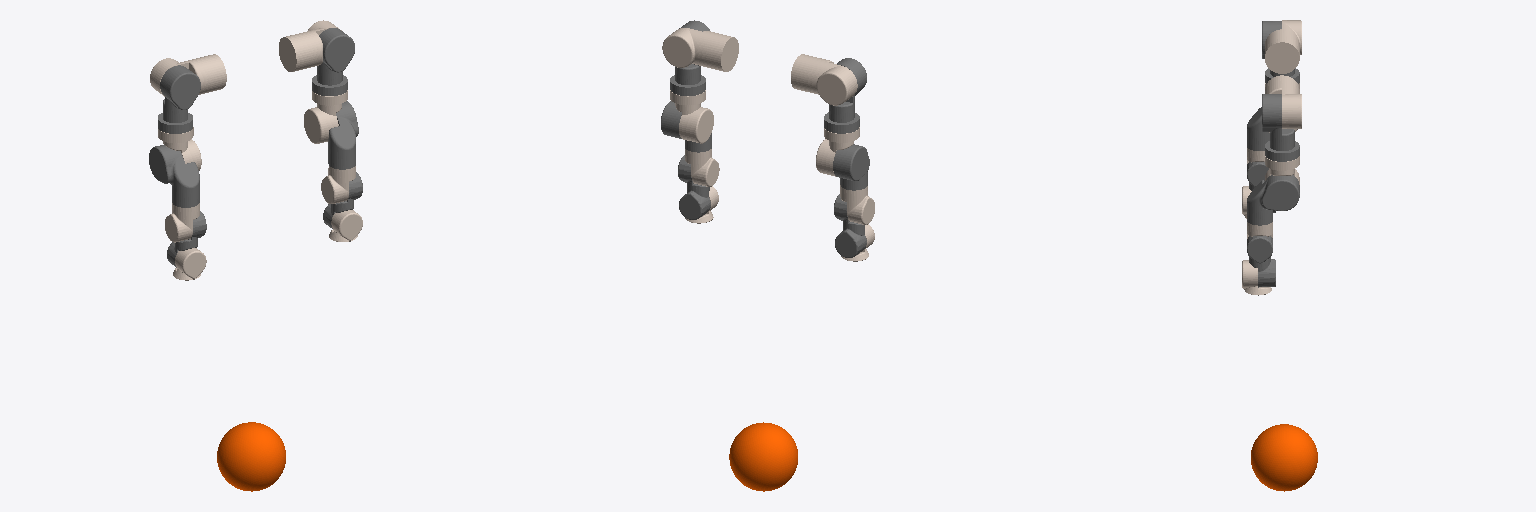
--- What the picture shows (computed from the rendered views, not written in the file) ---
3 views of the same robot in one strip: view 1: azimuth 30°, elevation 25°; view 2: azimuth 150°, elevation 25°; view 3: azimuth 270°, elevation 25° (orthographic).
Model ballbot with 24 links and 23 joints (17 revolute, 6 fixed), rooted at base_link, posed every joint at zero.
Visible links, largest first — view 1: Link_Ball, LArm2, LArm4, RArm2, RArm1, RArm4, LArm1, RArm3, LArm5, RArm5, RArm7, LArm7 (+3 smaller); view 2: Link_Ball, RArm1, LArm1, RArm3, LArm2, LArm4, RArm6, LArm6, RArm2, LArm3, LArm5, RArm5 (+1 smaller); view 3: Link_Ball, RArm4, RArm2, LArm1, RArm1, RArm6, LArm4, RArm7, LArm2, RArm3.
Boxes of the visible links, bbox=[...] form: Link_Ball: bbox=[217, 422, 285, 491]; LArm2: bbox=[158, 65, 200, 133]; LArm4: bbox=[149, 145, 199, 207]; RArm2: bbox=[312, 28, 354, 95]; RArm1: bbox=[279, 20, 341, 71]; RArm4: bbox=[328, 101, 358, 169]; LArm1: bbox=[150, 54, 226, 96]; RArm3: bbox=[304, 90, 347, 143]; LArm5: bbox=[165, 203, 199, 242]; RArm5: bbox=[321, 166, 355, 203]; RArm7: bbox=[329, 210, 362, 241]; LArm7: bbox=[173, 248, 206, 280]; Link_Ball: bbox=[729, 422, 797, 491]; RArm1: bbox=[662, 28, 738, 71]; LArm1: bbox=[791, 54, 857, 105]; RArm3: bbox=[670, 90, 713, 143]; LArm2: bbox=[824, 58, 866, 133]; LArm4: bbox=[833, 144, 869, 190]; RArm6: bbox=[678, 155, 710, 219]; LArm6: bbox=[834, 194, 866, 257]; RArm2: bbox=[670, 20, 709, 95]; LArm3: bbox=[816, 127, 859, 176]; LArm5: bbox=[840, 185, 874, 224]; RArm5: bbox=[685, 149, 719, 186]; Link_Ball: bbox=[1251, 424, 1317, 491]; RArm4: bbox=[1247, 175, 1299, 225]; RArm2: bbox=[1262, 94, 1299, 161]; LArm1: bbox=[1265, 20, 1301, 73]; RArm1: bbox=[1265, 75, 1301, 128]; RArm6: bbox=[1247, 236, 1275, 287]; LArm4: bbox=[1247, 107, 1269, 150]; RArm7: bbox=[1242, 260, 1271, 295]; LArm2: bbox=[1262, 21, 1299, 83]; RArm3: bbox=[1265, 156, 1299, 184].
Size in the robot's own frame: 0.676 by 0.2387 by 1.49 metres.
Meshes: 11 distinct files referenced, 15 mesh visuals loaded (9 binary STL); not drawn: 3 (reference not matched to a file when rendering).

The robot description file, URDF, robot "ballbot":
<?xml version="1.0" ?>
<!-- =================================================================================== -->
<!-- |    This document was autogenerated by xacro from ballbot_plus_nohands.urdf.xacro | -->
<!-- |    EDITING THIS FILE BY HAND IS NOT RECOMMENDED                                 | -->
<!-- =================================================================================== -->
<robot name="ballbot" xmlns:xacro="http://ros.org/wiki/xacro">
  <!-- CAD -->
  <material name="black">
    <color rgba="0.0 0.0 0.0 1.0"/>
  </material>
  <material name="blue">
    <color rgba="0.0 0.0 0.8 1.0"/>
  </material>
  <material name="green">
    <color rgba="0.0 0.8 0.0 1.0"/>
  </material>
  <material name="dark_grey">
    <color rgba="0.2 0.2 0.2 1.0"/>
  </material>
  <material name="grey">
    <color rgba="0.5 0.5 0.5 1.0"/>
  </material>
  <material name="light_grey">
    <color rgba="0.8 0.8 0.8 1.0"/>
  </material>
  <material name="orange">
    <color rgba="1.0 0.423529411765 0.0392156862745 1.0"/>
  </material>
  <material name="brown">
    <color rgba="0.870588235294 0.811764705882 0.764705882353 1.0"/>
  </material>
  <material name="white">
    <color rgba="1.0 1.0 1.0 1.0"/>
  </material>
  <material name="yellow">
    <color rgba="0.8 0.68 0 1"/>
  </material>
  <material name="red">
    <color rgba="1.0 0.0 0.0 1"/>
  </material>
  <material name="aluminum">
    <color rgba="0.5 0.5 0.5 1"/>
  </material>
  <!-- ros_control plugin -->
  <gazebo>
    <plugin filename="libgazebo_ros_control.so" name="gazebo_ros_control">
      <robotNamespace>/ballbot</robotNamespace>
      <robotSimType>gazebo_ros_control/DefaultRobotHWSim</robotSimType>
      <legacyModeNS>true</legacyModeNS>
    </plugin>
  </gazebo>
  <gazebo reference="BallbotBase">
    <material>Gazebo/Orange</material>
    <selfCollide>false</selfCollide>
    <static>true</static>
  </gazebo>
  <gazebo reference="Link_FakeBall">
    <material>Gazebo/Orange</material>
    <selfCollide>true</selfCollide>
    <static>true</static>
  </gazebo>
  <gazebo reference="Link_Ball">
    <material>Gazebo/Orange</material>
    <self_collide>false</self_collide>
    <static>true</static>
  </gazebo>
  <gazebo reference="Link_FakeBody">
    <material>Gazebo/Orange</material>
    <selfCollide>false</selfCollide>
    <static>true</static>
  </gazebo>
  <gazebo reference="Link_Body">
    <material>Gazebo/Yellow</material>
    <self_collide>true</self_collide>
    <static>true</static>
  </gazebo>
  <!-- Right Arm Transmissions -->
  <transmission name="RArmTran1">
    <type>transmission_interface/SimpleTransmission</type>
    <joint name="JRA1">
      <hardwareInterface>hardware_interface/EffortJointInterface</hardwareInterface>
    </joint>
    <actuator name="RArmMotor1">
      <hardwareInterface>hardware_interface/EffortJointInterface</hardwareInterface>
      <mechanicalReduction>1</mechanicalReduction>
    </actuator>
  </transmission>
  <transmission name="RArmTran2">
    <type>transmission_interface/SimpleTransmission</type>
    <joint name="JRA2">
      <hardwareInterface>hardware_interface/EffortJointInterface</hardwareInterface>
    </joint>
    <actuator name="RArmMotor2">
      <hardwareInterface>hardware_interface/EffortJointInterface</hardwareInterface>
      <mechanicalReduction>1</mechanicalReduction>
    </actuator>
  </transmission>
  <transmission name="RArmTran3">
    <type>transmission_interface/SimpleTransmission</type>
    <joint name="JRA3">
      <hardwareInterface>hardware_interface/EffortJointInterface</hardwareInterface>
    </joint>
    <actuator name="RArmMotor3">
      <hardwareInterface>hardware_interface/EffortJointInterface</hardwareInterface>
      <mechanicalReduction>1</mechanicalReduction>
    </actuator>
  </transmission>
  <transmission name="RArmTran4">
    <type>transmission_interface/SimpleTransmission</type>
    <joint name="JRA4">
      <hardwareInterface>hardware_interface/EffortJointInterface</hardwareInterface>
    </joint>
    <actuator name="RArmMotor4">
      <hardwareInterface>hardware_interface/EffortJointInterface</hardwareInterface>
      <mechanicalReduction>1</mechanicalReduction>
    </actuator>
  </transmission>
  <transmission name="RArmTran5">
    <type>transmission_interface/SimpleTransmission</type>
    <joint name="JRA5">
      <hardwareInterface>hardware_interface/EffortJointInterface</hardwareInterface>
    </joint>
    <actuator name="RArmMotor5">
      <hardwareInterface>hardware_interface/EffortJointInterface</hardwareInterface>
      <mechanicalReduction>1</mechanicalReduction>
    </actuator>
  </transmission>
  <transmission name="RArmTran6">
    <type>transmission_interface/SimpleTransmission</type>
    <joint name="JRA6">
      <hardwareInterface>hardware_interface/EffortJointInterface</hardwareInterface>
    </joint>
    <actuator name="RArmMotor6">
      <hardwareInterface>hardware_interface/EffortJointInterface</hardwareInterface>
      <mechanicalReduction>1</mechanicalReduction>
    </actuator>
  </transmission>
  <transmission name="RArmTran7">
    <type>transmission_interface/SimpleTransmission</type>
    <joint name="JRA7">
      <hardwareInterface>hardware_interface/EffortJointInterface</hardwareInterface>
    </joint>
    <actuator name="RArmMotor7">
      <hardwareInterface>hardware_interface/EffortJointInterface</hardwareInterface>
      <mechanicalReduction>1</mechanicalReduction>
    </actuator>
  </transmission>
  <!-- Left Arm Transmissions -->
  <transmission name="LArmTran1">
    <type>transmission_interface/SimpleTransmission</type>
    <joint name="JLA1">
      <hardwareInterface>hardware_interface/EffortJointInterface</hardwareInterface>
    </joint>
    <actuator name="LArmMotor1">
      <hardwareInterface>hardware_interface/EffortJointInterface</hardwareInterface>
      <mechanicalReduction>1</mechanicalReduction>
    </actuator>
  </transmission>
  <transmission name="LArmTran2">
    <type>transmission_interface/SimpleTransmission</type>
    <joint name="JLA2">
      <hardwareInterface>hardware_interface/EffortJointInterface</hardwareInterface>
    </joint>
    <actuator name="LArmMotor2">
      <hardwareInterface>hardware_interface/EffortJointInterface</hardwareInterface>
      <mechanicalReduction>1</mechanicalReduction>
    </actuator>
  </transmission>
  <transmission name="LArmTran3">
    <type>transmission_interface/SimpleTransmission</type>
    <joint name="JLA3">
      <hardwareInterface>hardware_interface/EffortJointInterface</hardwareInterface>
    </joint>
    <actuator name="LArmMotor3">
      <hardwareInterface>hardware_interface/EffortJointInterface</hardwareInterface>
      <mechanicalReduction>1</mechanicalReduction>
    </actuator>
  </transmission>
  <transmission name="LArmTran4">
    <type>transmission_interface/SimpleTransmission</type>
    <joint name="JLA4">
      <hardwareInterface>hardware_interface/EffortJointInterface</hardwareInterface>
    </joint>
    <actuator name="LArmMotor4">
      <hardwareInterface>hardware_interface/EffortJointInterface</hardwareInterface>
      <mechanicalReduction>1</mechanicalReduction>
    </actuator>
  </transmission>
  <transmission name="LArmTran5">
    <type>transmission_interface/SimpleTransmission</type>
    <joint name="JLA5">
      <hardwareInterface>hardware_interface/EffortJointInterface</hardwareInterface>
    </joint>
    <actuator name="LArmMotor5">
      <hardwareInterface>hardware_interface/EffortJointInterface</hardwareInterface>
      <mechanicalReduction>1</mechanicalReduction>
    </actuator>
  </transmission>
  <transmission name="LArmTran6">
    <type>transmission_interface/SimpleTransmission</type>
    <joint name="JLA6">
      <hardwareInterface>hardware_interface/EffortJointInterface</hardwareInterface>
    </joint>
    <actuator name="LArmMotor6">
      <hardwareInterface>hardware_interface/EffortJointInterface</hardwareInterface>
      <mechanicalReduction>1</mechanicalReduction>
    </actuator>
  </transmission>
  <transmission name="LArmTran7">
    <type>transmission_interface/SimpleTransmission</type>
    <joint name="JLA7">
      <hardwareInterface>hardware_interface/EffortJointInterface</hardwareInterface>
    </joint>
    <actuator name="LArmMotor7">
      <hardwareInterface>hardware_interface/EffortJointInterface</hardwareInterface>
      <mechanicalReduction>1</mechanicalReduction>
    </actuator>
  </transmission>
  <!--<gazebo reference="">
    <material>Gazebo/Yellow</material>
  </gazebo>

  - Right Arm 
  <gazebo reference="Link_FakeBall">
    <mu1>0.2</mu1>
    <mu2>0.2</mu1>
    <material>Gazebo/Orange</material>
  </gazebo>

  <gazebo reference="Link_Ball">
    <mu1>0.2</mu1>
    <mu2>0.2</mu1>
    <material>Gazebo/Orange</material>
  </gazebo>

  <gazebo reference="Link_FakeBody">
    <mu1>0.2</mu1>
    <mu2>0.2</mu1>
    <material>Gazebo/Orange</material>
  </gazebo>

  <gazebo reference="Link_Body">
    <mu1>0.2</mu1>
    <mu2>0.2</mu1>
    <material>Gazebo/Orange</material>
  </gazebo-->
  <!-- Used for fixing robot to Gazebo 'base_link' -->
  <link name="base_link"/>
  <link name="Link_Ball">
    <inertial>
      <origin xyz="0.0 0.0 0.105838"/>
      <mass value="2.72"/>
      <inertia ixx="0.01220" ixy="0.00000" ixz="0.00000" iyy="0.01220" iyz="0.00000" izz="0.01220"/>
    </inertial>
    <visual>
      <origin rpy="0.0 0.0 0.0" xyz="0.0 0.0 0.0"/>
      <geometry>
        <mesh filename="package://ballbot_arm_description/meshes/v2020/ball.stl"/>
      </geometry>
      <material name="orange"/>
    </visual>
    <collision>
      <origin rpy="0 0 0" xyz="0 0 0"/>
      <geometry>
        <mesh filename="package://ballbot_arm_description/meshes/v2020/ball.stl"/>
      </geometry>
    </collision>
  </link>
  <link name="Link_Pitch">
    <inertial>
      <origin xyz="0.00000 0.00000 0.00000"/>
      <mass value="0.00001"/>
      <inertia ixx="0.0000001" ixy="0.0" ixz="0.0" iyy="0.0000001" iyz="0.0" izz="0.0000001"/>
    </inertial>
  </link>
  <link name="Link_Roll">
    <inertial>
      <origin xyz="0.00000 0.00000 0.00000"/>
      <mass value="0.00001"/>
      <inertia ixx="0.0000001" ixy="0.0" ixz="0.0" iyy="0.0000001" iyz="0.0" izz="0.0000001"/>
    </inertial>
  </link>
  <link name="Link_Yaw">
    <inertial>
      <origin xyz="0.00000 0.00000 0.00000"/>
      <mass value="0.00001"/>
      <inertia ixx="0.0000001" ixy="0.0" ixz="0.0" iyy="0.0000001" iyz="0.0" izz="0.0000001"/>
    </inertial>
  </link>
  <!-- Joints -->
  <joint name="Joint_World_Ball" type="fixed">
    <origin rpy="0.0 0.0 0.0" xyz="0.0 0.0 0.105838"/>
    <parent link="base_link"/>
    <child link="Link_Ball"/>
    <axis xyz="0 0 1"/>
  </joint>
  <joint name="xAngle" type="revolute">
    <origin rpy="0.0 0.0 0.0" xyz="0.0 0.0 0.0"/>
    <parent link="Link_Ball"/>
    <child link="Link_Pitch"/>
    <limit effort="30" lower="-0.349065850399" upper="0.349065850399" velocity="1.0"/>
    <axis xyz="0 1 0"/>
  </joint>
  <joint name="yAngle" type="revolute">
    <origin rpy="0.0 0.0 0.0" xyz="0.00000 0.00000 0.00000"/>
    <parent link="Link_Pitch"/>
    <child link="Link_Roll"/>
    <limit effort="30" lower="-0.349065850399" upper="0.349065850399" velocity="1.0"/>
    <axis xyz="-1 0 0"/>
  </joint>
  <joint name="yaw" type="revolute">
    <origin rpy="0.0 0.0 0.0" xyz="0.00000 0.00000 0.0"/>
    <parent link="Link_Roll"/>
    <child link="Link_Yaw"/>
    <limit effort="30" lower="-3.14159265359" upper="3.14159265359" velocity="1.0"/>
    <axis xyz="0 0 1"/>
  </joint>
  <joint name="JBalltoBody" type="fixed">
    <origin rpy="0.0 0.0 1.5707963268" xyz="0.0 0.0 0.762"/>
    <parent link="Link_Yaw"/>
    <child link="body_link"/>
    <limit effort="30" velocity="1.0"/>
    <axis xyz="0 0 1"/>
  </joint>
  <link name="body_link">
    <inertial>
      <origin xyz="0.011 0.0 -0.072"/>
      <mass value="64.86"/>
      <inertia ixx="10.61648" ixy="0.00000" ixz="0.00000" iyy="10.61648" iyz="0.00000" izz="0.66440"/>
    </inertial>
    <visual>
      <origin rpy="0 0 0" xyz="0 0 -0.762"/>
      <geometry>
        <mesh filename="package://ballbot_arm_description/meshes/v2020/ballbot_body_v2021.stl"/>
      </geometry>
      <material name="yellow"/>
    </visual>
    <collision>
      <origin rpy="0 0 0" xyz="0 0 -0.0595"/>
      <geometry>
        <cylinder length="1.105" radius="0.184"/>
      </geometry>
    </collision>
  </link>
  <!-- ====================================== -->
  <!-- Right Arm -->
  <joint name="JRA0" type="fixed">
    <origin rpy="-1.5707963268 -1.5707963268 3.14159265359" xyz="-0.00635 -0.12314 0.56715"/>
    <parent link="body_link"/>
    <child link="RArm0"/>
    <axis xyz="0 0 1"/>
    <dynamics damping="1.0" friction="1.0"/>
  </joint>
  <link name="RArm0">
    <inertial>
      <origin rpy="0 0 0" xyz="-0.00832 0.0 -0.0418"/>
      <mass value="2.367"/>
      <inertia ixx="0.00366" ixy="0.0" ixz="-0.0000208" iyy="0.00398" iyz="0.0" izz="0.00461"/>
    </inertial>
    <visual>
      <origin rpy="0 0 0" xyz="0 0 0"/>
      <geometry>
        <mesh filename="package://ballbot_arm_description/meshes/v2020/link_base.stl"/>
      </geometry>
      <material name="grey"/>
    </visual>
    <collision>
      <origin rpy="0 0 0" xyz="0 0 0"/>
      <geometry>
        <mesh filename="package://ballbot_arm_description/meshes/v2020/link_base.stl"/>
      </geometry>
    </collision>
  </link>
  <link name="RArm1">
    <inertial>
      <origin xyz="0.0 0.00329 0.0865"/>
      <mass value="4.181"/>
      <inertia ixx="0.0172" ixy="0.0000173" ixz="0.0" iyy="0.0170" iyz="-0.000935" izz="0.00602"/>
    </inertial>
    <visual>
      <origin rpy="0 0 3.14159265359" xyz="0.0 0.0 0.0"/>
      <geometry>
        <mesh filename="package://ballbot_arm_description/meshes/v2020/link_shoulder_2_base.stl"/>
      </geometry>
      <material name="brown"/>
    </visual>
    <collision>
      <origin rpy="0 0 0" xyz="0.0 0.0 -0.05525"/>
      <geometry>
        <cylinder length="0.1105" radius="0.05"/>
      </geometry>
    </collision>
  </link>
  <link name="RArm2">
    <inertial>
      <origin xyz="-0.123 0.000 -0.0507"/>
      <mass value="1.832"/>
      <inertia ixx="0.00241" ixy="0.0" ixz="-0.000742" iyy="0.00559" iyz="0.0" izz="0.00563"/>
    </inertial>
    <visual>
      <origin rpy="0 0 0" xyz="0.0 0.0 0.0"/>
      <geometry>
        <mesh filename="package://ballbot_arm_description/meshes/v2020/link_shoulder_2_uparm.stl"/>
      </geometry>
      <material name="grey"/>
    </visual>
    <collision>
      <origin rpy="0 0 0" xyz="0.0 0.0 -0.05525"/>
      <geometry>
        <cylinder length="0.1105" radius="0.05"/>
      </geometry>
    </collision>
  </link>
  <link name="RArm3">
    <inertial>
      <origin xyz="0.0 -0.00963 0.0773"/>
      <mass value="1.821"/>
      <inertia ixx="0.00375" ixy="0.0" ixz="0.0" iyy="0.00338" iyz="0.000169" izz="0.00278"/>
    </inertial>
    <visual>
      <origin rpy="0 0 0" xyz="0.0 0.0 -0.02718"/>
      <geometry>
        <mesh filename="package://ballbot_arm_description/meshes/v2020/link_upperarm.stl"/>
      </geometry>
      <material name="brown"/>
    </visual>
    <collision>
      <origin rpy="0 0 0" xyz="0.0 0.0 -0.05525"/>
      <geometry>
        <cylinder length="0.1105" radius="0.05"/>
      </geometry>
    </collision>
  </link>
  <link name="RArm4">
    <inertial>
      <origin xyz="-0.0758 0.0594 -0.0448"/>
      <mass value="1.105"/>
      <inertia ixx="0.00186" ixy="0.000915" ixz="-0.000456" iyy="0.00276" iyz="0.000276" izz="0.00356"/>
    </inertial>
    <visual>
      <origin rpy="0 0 0" xyz="0.0 0.0 0.0"/>
      <geometry>
        <mesh filename="package://ballbot_arm_description/meshes/v2020/link_forearm_r.stl"/>
      </geometry>
      <material name="grey"/>
    </visual>
    <collision>
      <origin rpy="0 0 0" xyz="0.0 0.0 -0.05525"/>
      <geometry>
        <cylinder length="0.1105" radius="0.05"/>
      </geometry>
    </collision>
  </link>
  <link name="RArm5">
    <inertial>
      <origin xyz="-0.00147 0.0 -0.0537"/>
      <mass value="0.973"/>
      <inertia ixx="0.00106" ixy="0.0" ixz="-0.0000188" iyy="0.00123" iyz="0.0" izz="0.00101"/>
    </inertial>
    <visual>
      <origin rpy="0 0 0" xyz="0.0 0.0 0.0"/>
      <geometry>
        <mesh filename="package://ballbot_arm_description/meshes/v2020/link_forearm_2_wrist.stl"/>
      </geometry>
      <material name="brown"/>
    </visual>
    <collision>
      <origin rpy="0 0 0" xyz="0.0 0.0 0.0495"/>
      <geometry>
        <cylinder length="0.099" radius="0.0375"/>
      </geometry>
    </collision>
  </link>
  <link name="RArm6">
    <inertial>
      <origin xyz="0.0947 0.00543 0.0386"/>
      <mass value="1.013"/>
      <inertia ixx="0.00106" ixy="-0.0000831" ixz="-0.000236" iyy="0.00193" iyz="-0.0000139" izz="0.00215"/>
    </inertial>
    <visual>
      <origin rpy="0 0 0" xyz="0.0 0.0 0.0"/>
      <geometry>
        <mesh filename="package://ballbot_arm_description/meshes/v2020/link_wrist_mid.stl"/>
      </geometry>
      <material name="grey"/>
    </visual>
    <collision>
      <origin rpy="0 0 0" xyz="0.0 0.0 0.0495"/>
      <geometry>
        <cylinder length="0.099" radius="0.0375"/>
      </geometry>
    </collision>
  </link>
  <link name="RArm7">
    <inertial>
      <origin xyz="0.0235 -0.000000178 0.0295"/>
      <mass value="0.195"/>
      <inertia ixx="0.000257" ixy="0.0" ixz="-0.0000691" iyy="0.000325" iyz="0.0" izz="0.000362"/>
    </inertial>
    <visual>
      <origin rpy="0 0 0" xyz="0.0 0.0 0.0"/>
      <geometry>
        <mesh filename="package://ballbot_arm_description/meshes/v2020/link_wrist_2_hand.stl"/>
      </geometry>
      <material name="brown"/>
    </visual>
    <collision>
      <origin rpy="0 0 0" xyz="0.0 0.0 0.0495"/>
      <geometry>
        <cylinder length="0.099" radius="0.0375"/>
      </geometry>
    </collision>
  </link>
  <joint name="JRA1" type="revolute">
    <origin rpy="0.0 0.0 0.0" xyz="0.0 0.0 0.0"/>
    <parent link="RArm0"/>
    <child link="RArm1"/>
    <limit effort="30.0" lower="-2.96705972839" upper="2.96705972839" velocity="3.0"/>
    <axis xyz="0 0 1"/>
    <dynamics damping="0.7" friction="0.5"/>
  </joint>
  <joint name="JRA2" type="revolute">
    <origin rpy="-1.5707963705062866 0.0 -0.0" xyz="0.00000 0.05436 0.14900"/>
    <parent link="RArm1"/>
    <child link="RArm2"/>
    <limit effort="30.0" lower="-0.0349065850399" upper="1.5707963268" velocity="3.0"/>
    <axis xyz="0 0 1"/>
    <dynamics damping="0.7" friction="0.5"/>
  </joint>
  <joint name="JRA3" type="revolute">
    <origin rpy="3.141592653589793 -1.570796282091413 3.141592653589793" xyz="-0.17786 0.00000 -0.05436"/>
    <parent link="RArm2"/>
    <child link="RArm3"/>
    <limit effort="30.0" lower="-1.5707963268" upper="1.5707963268" velocity="3.0"/>
    <axis xyz="0 0 1"/>
    <dynamics damping="0.7" friction="0.5"/>
  </joint>
  <joint name="JRA4" type="revolute">
    <origin rpy="-2.3561944901923457 1.5707962635746238 2.3561944901923457" xyz="0.00000 -0.05436 0.08522"/>
    <parent link="RArm3"/>
    <child link="RArm4"/>
    <limit effort="30.0" lower="-0.349065850399" upper="2.79252680319" velocity="3.0"/>
    <axis xyz="0 0 1"/>
    <dynamics damping="0.7" friction="0.5"/>
  </joint>
  <joint name="JRA5" type="revolute">
    <origin rpy="0 1.5707963268 0" xyz="-0.13200 0.07000 -0.05073"/>
    <parent link="RArm4"/>
    <child link="RArm5"/>
    <limit effort="30.0" lower="-2.82743338823" upper="2.82743338823" velocity="3.0"/>
    <axis xyz="0 0 1"/>
    <dynamics damping="0.7" friction="0.5"/>
  </joint>
  <joint name="JRA6" type="revolute">
    <origin rpy="0 1.5707963268 0" xyz="-0.04115 0.0 -0.06"/>
    <parent link="RArm5"/>
    <child link="RArm6"/>
    <limit effort="30.0" lower="-1.49599650171" upper="1.49599650171" velocity="3.0"/>
    <axis xyz="0 0 1"/>
    <dynamics damping="0.7" friction="0.5"/>
  </joint>
  <joint name="JRA7" type="revolute">
    <origin rpy="1.5707963268 0.0 0.0" xyz="0.10750 0.04650 0.041150"/>
    <parent link="RArm6"/>
    <child link="RArm7"/>
    <limit effort="30.0" lower="-1.49599650171" upper="1.49599650171" velocity="3.0"/>
    <axis xyz="0 0 1"/>
    <dynamics damping="0.7" friction="0.5"/>
  </joint>
  <link name="toolR">
    <inertial>
      <origin xyz="0.0 0.0 0.0"/>
      <mass value="1e-05"/>
      <inertia ixx="0.00001" ixy="0.0" ixz="0.0" iyy="0.00001" iyz="0.0" izz="0.00001"/>
    </inertial>
  </link>
  <joint name="RArm7-toolR" type="fixed">
    <origin rpy="0 1.5707963268 0" xyz="0.055 0 0.04065"/>
    <axis xyz="0 0 1"/>
    <parent link="RArm7"/>
    <child link="toolR"/>
  </joint>
  <!-- ====================================== -->
  <!-- Left Arm-->
  <joint name="JLA0" type="fixed">
    <origin rpy="1.5707963268 -1.5707963268 -3.14159265359" xyz="-0.00635 0.12314 0.56715"/>
    <parent link="body_link"/>
    <child link="LArm0"/>
    <axis xyz="0 0 1"/>
  </joint>
  <link name="LArm0">
    <inertial>
      <origin rpy="0 0 0" xyz="-0.00832 0.0 -0.0418"/>
      <mass value="2.367"/>
      <inertia ixx="0.00366" ixy="0.0" ixz="-0.0000208" iyy="0.00398" iyz="0.0" izz="0.00461"/>
    </inertial>
    <visual>
      <origin rpy="0 0 0" xyz="0 0 0"/>
      <geometry>
        <mesh filename="package://ballbot_arm_description/meshes/v2020/link_base.stl"/>
      </geometry>
      <material name="grey"/>
    </visual>
    <collision>
      <origin rpy="0 0 0" xyz="0 0 0"/>
      <geometry>
        <mesh filename="package://ballbot_arm_description/meshes/v2020/link_base.stl"/>
      </geometry>
    </collision>
  </link>
  <link name="LArm1">
    <inertial>
      <origin xyz="0.0 0.00329 0.0865"/>
      <mass value="4.181"/>
      <inertia ixx="0.0172" ixy="0.0000173" ixz="0.0" iyy="0.0170" iyz="-0.000935" izz="0.00602"/>
    </inertial>
    <visual>
      <origin rpy="0 0 0" xyz="0.0 0.0 0.0"/>
      <geometry>
        <mesh filename="package://ballbot_arm_description/meshes/v2020/link_shoulder_2_base.stl"/>
      </geometry>
      <material name="brown"/>
    </visual>
    <collision>
      <origin rpy="0 0 0" xyz="0.0 0.0 -0.05525"/>
      <geometry>
        <cylinder length="0.1105" radius="0.05"/>
      </geometry>
      <material name="blue"/>
    </collision>
  </link>
  <link name="LArm2">
    <inertial>
      <origin xyz="-0.123 0.000 -0.0507"/>
      <mass value="1.832"/>
      <inertia ixx="0.00241" ixy="0.0" ixz="-0.000742" iyy="0.00559" iyz="0.0" izz="0.00563"/>
    </inertial>
    <visual>
      <origin rpy="0 0 0" xyz="0.0 0.0 0.0"/>
      <geometry>
        <mesh filename="package://ballbot_arm_description/meshes/v2020/link_shoulder_2_uparm.stl"/>
      </geometry>
      <material name="grey"/>
    </visual>
    <collision>
      <origin rpy="0 0 0" xyz="0.0 0.0 -0.05525"/>
      <geometry>
        <cylinder length="0.1105" radius="0.05"/>
      </geometry>
      <material name="blue"/>
    </collision>
  </link>
  <link name="LArm3">
    <inertial>
      <origin xyz="0.0 -0.00963 0.0773"/>
      <mass value="1.821"/>
      <inertia ixx="0.00375" ixy="0.0" ixz="0.0" iyy="0.00338" iyz="0.000169" izz="0.00278"/>
    </inertial>
    <visual>
      <origin rpy="0 0 0" xyz="0.0 0.0 -0.02718"/>
      <geometry>
        <mesh filename="package://ballbot_arm_description/meshes/v2020/link_upperarm.stl"/>
      </geometry>
      <material name="brown"/>
    </visual>
    <collision>
      <origin rpy="0 0 0" xyz="0.0 0.0 -0.05525"/>
      <geometry>
        <cylinder length="0.1105" radius="0.05"/>
      </geometry>
      <material name="blue"/>
    </collision>
  </link>
  <link name="LArm4">
    <inertial>
      <origin xyz="-0.0758 -0.0594 -0.0448"/>
      <mass value="1.105"/>
      <inertia ixx="0.00186" ixy="-0.000915" ixz="-0.000456" iyy="0.00276" iyz="-0.000276" izz="0.00356"/>
    </inertial>
    <visual>
      <origin rpy="0 0 0" xyz="0.0 0.0 0.0"/>
      <geometry>
        <mesh filename="package://ballbot_arm_description/meshes/v2020/link_forearm.stl"/>
      </geometry>
      <material name="grey"/>
    </visual>
    <collision>
      <origin rpy="0 0 0" xyz="0.0 0.0 -0.05525"/>
      <geometry>
        <cylinder length="0.1105" radius="0.05"/>
      </geometry>
      <material name="blue"/>
    </collision>
  </link>
  <link name="LArm5">
    <inertial>
      <origin xyz="-0.00147 0.0 -0.0537"/>
      <mass value="0.973"/>
      <inertia ixx="0.00106" ixy="0.0" ixz="-0.0000188" iyy="0.00123" iyz="0.0" izz="0.00101"/>
    </inertial>
    <visual>
      <origin rpy="0 0 0" xyz="0.0 0.0 0.0"/>
      <geometry>
        <mesh filename="package://ballbot_arm_description/meshes/v2020/link_forearm_2_wrist.stl"/>
      </geometry>
      <material name="brown"/>
    </visual>
    <collision>
      <origin rpy="0 0 0" xyz="0.0 0.0 0.0495"/>
      <geometry>
        <cylinder length="0.099" radius="0.0375"/>
      </geometry>
      <material name="blue"/>
    </collision>
  </link>
  <link name="LArm6">
    <inertial>
      <origin xyz="0.0947 0.00543 0.0386"/>
      <mass value="1.013"/>
      <inertia ixx="0.00106" ixy="-0.0000831" ixz="-0.000236" iyy="0.00193" iyz="-0.0000139" izz="0.00215"/>
    </inertial>
    <visual>
      <origin rpy="0 0 0" xyz="0.0 0.0 0.0"/>
      <geometry>
        <mesh filename="package://ballbot_arm_description/meshes/v2020/link_wrist_mid.stl"/>
      </geometry>
      <material name="grey"/>
    </visual>
    <collision>
      <origin rpy="0 0 0" xyz="0.0 0.0 0.0495"/>
      <geometry>
        <cylinder length="0.099" radius="0.0375"/>
      </geometry>
      <material name="blue"/>
    </collision>
  </link>
  <link name="LArm7">
    <inertial>
      <origin xyz="0.0235 -0.000000178 0.0295"/>
      <mass value="0.195"/>
      <inertia ixx="0.000257" ixy="0.0" ixz="-0.0000691" iyy="0.000325" iyz="0.0" izz="0.000362"/>
    </inertial>
    <visual>
      <origin rpy="0 0 0" xyz="0.0 0.0 0.0"/>
      <geometry>
        <mesh filename="package://ballbot_arm_description/meshes/v2020/link_wrist_2_hand.stl"/>
      </geometry>
      <material name="brown"/>
    </visual>
    <collision>
      <origin rpy="0 0 0" xyz="0.0 0.0 0.0495"/>
      <geometry>
        <cylinder length="0.099" radius="0.0375"/>
      </geometry>
      <material name="blue"/>
    </collision>
  </link>
  <joint name="JLA1" type="revolute">
    <origin rpy="0.0 0.0 0.0" xyz="0.0 0.0 0.0"/>
    <parent link="LArm0"/>
    <child link="LArm1"/>
    <limit effort="30.0" lower="-2.96705972839" upper="2.96705972839" velocity="3.0"/>
    <axis xyz="0 0 1"/>
    <dynamics damping="0.7" friction="0.5"/>
  </joint>
  <joint name="JLA2" type="revolute">
    <origin rpy="1.5707963705062866 -0.0 0.0" xyz="0.00000 -0.05436 0.14900"/>
    <parent link="LArm1"/>
    <child link="LArm2"/>
    <limit effort="30.0" lower="-1.5707963268" upper="0.0349065850399" velocity="3.0"/>
    <axis xyz="0 0 1"/>
    <dynamics damping="0.7" friction="0.5"/>
  </joint>
  <joint name="JLA3" type="revolute">
    <origin rpy="2.0344439357957036 1.5707962290814481 -1.1071487177940917" xyz="-0.17786 0.00000 -0.05436"/>
    <parent link="LArm2"/>
    <child link="LArm3"/>
    <limit effort="30.0" lower="-1.5707963268" upper="1.5707963268" velocity="3.0"/>
    <axis xyz="0 0 1"/>
    <dynamics damping="0.7" friction="0.5"/>
  </joint>
  <joint name="JLA4" type="revolute">
    <origin rpy="-2.3561944901923457 1.5707962635746238 2.3561944901923457" xyz="0.00000 -0.05436 0.08522"/>
    <parent link="LArm3"/>
    <child link="LArm4"/>
    <limit effort="30.0" lower="-2.79252680319" upper="0.349065850399" velocity="3.0"/>
    <axis xyz="0 0 1"/>
    <dynamics damping="0.7" friction="0.5"/>
  </joint>
  <joint name="JLA5" type="revolute">
    <origin rpy="-1.5707963268 -1.5707963268 -1.5707963268" xyz="-0.13200 -0.07000 -0.05073"/>
    <parent link="LArm4"/>
    <child link="LArm5"/>
    <limit effort="30.0" lower="-2.82743338823" upper="2.82743338823" velocity="3.0"/>
    <axis xyz="0 0 1"/>
    <dynamics damping="0.7" friction="0.5"/>
  </joint>
  <joint name="JLA6" type="revolute">
    <origin rpy="0 1.5707963268 0" xyz="-0.041150 0.0 -0.06000"/>
    <parent link="LArm5"/>
    <child link="LArm6"/>
    <limit effort="30.0" lower="-1.49599650171" upper="1.49599650171" velocity="3.0"/>
    <axis xyz="0 0 1"/>
    <dynamics damping="0.7" friction="0.5"/>
  </joint>
  <joint name="JLA7" type="revolute">
    <origin rpy="1.5707963268 0.0 0.0" xyz="0.10750 0.04650 0.041150"/>
    <parent link="LArm6"/>
    <child link="LArm7"/>
    <limit effort="30.0" lower="-1.49599650171" upper="1.49599650171" velocity="3.0"/>
    <axis xyz="0 0 1"/>
    <dynamics damping="0.7" friction="0.5"/>
  </joint>
  <link name="toolL">
    <inertial>
      <origin xyz="0.0 0.0 0.0"/>
      <mass value="1e-05"/>
      <inertia ixx="0.00001" ixy="0.0" ixz="0.0" iyy="0.00001" iyz="0.0" izz="0.00001"/>
    </inertial>
  </link>
  <joint name="LArm7-toolL" type="fixed">
    <origin rpy="0 1.5707963268 0" xyz="0.055 0 0.04065"/>
    <axis xyz="0 0 1"/>
    <parent link="LArm7"/>
    <child link="toolL"/>
  </joint>
</robot>
